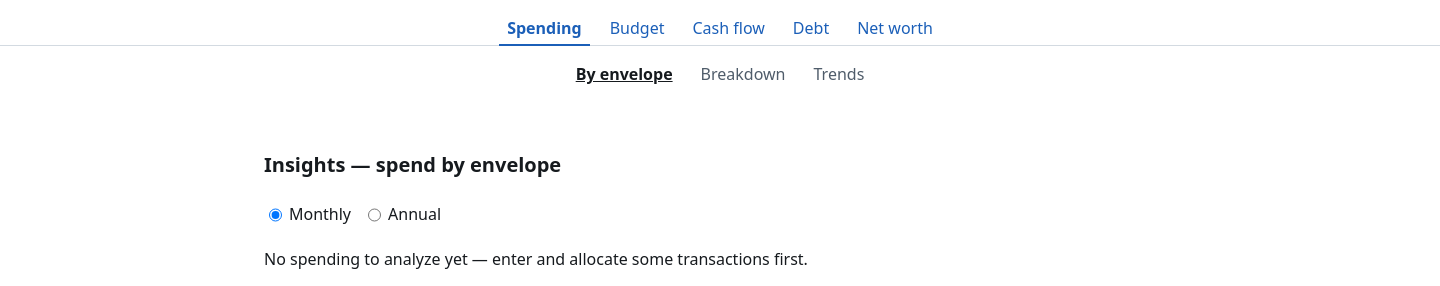
AnalysisSection (UXR6 — Insights category IA) › clicking a category navigates to its default sub-view and swaps the page in place
The image size is (1440, 286).
Expected: the heading "Insights — spend by envelope" is shown, [264, 151, 561, 178]
Click the link "Net worth". click: (895, 28)
box: [857, 17, 933, 39]
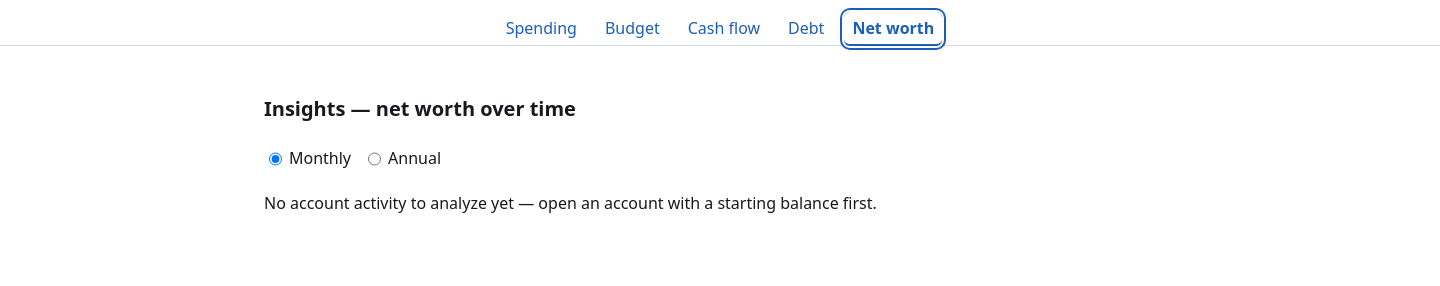
Expected: the heading "Insights — net worth over time" is shown, [264, 95, 576, 122]
Expected: the heading "Insights — spend by envelope" is gone
